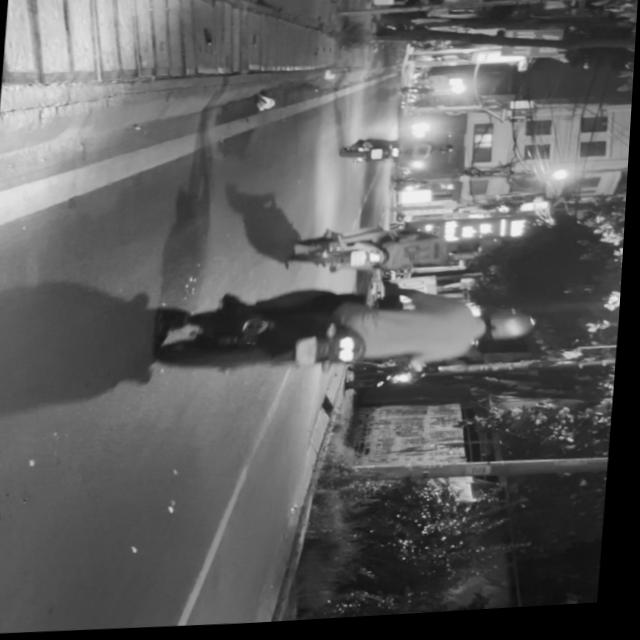helmet: (482, 315, 541, 351), (451, 243, 485, 264)
licenseplate: (154, 275, 545, 391), (294, 224, 487, 284)
nohelmet: (300, 341, 323, 372), (353, 256, 369, 271)
